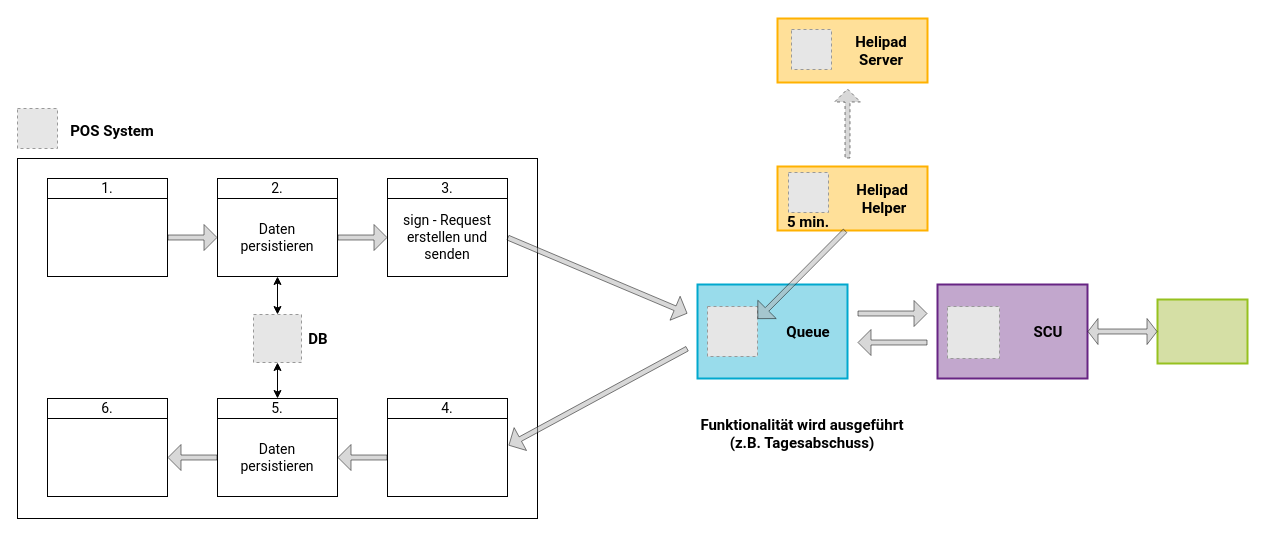
The diagram is 1266 pixels wide and 536 high, and some of its shapes have lost their labels. Grey dashed boxes stand in for pictures. The shapes that lost their labels are listed below. From the top down, each one's box as (x1, y1, x2, y2) in pixels, then its label:
(46, 198, 168, 276): Sonderbeleg vorbereiten
(1156, 298, 1248, 364): TSE
(46, 418, 168, 496): Beleg erstellen und drucken
(386, 418, 508, 496): Response prozessieren
